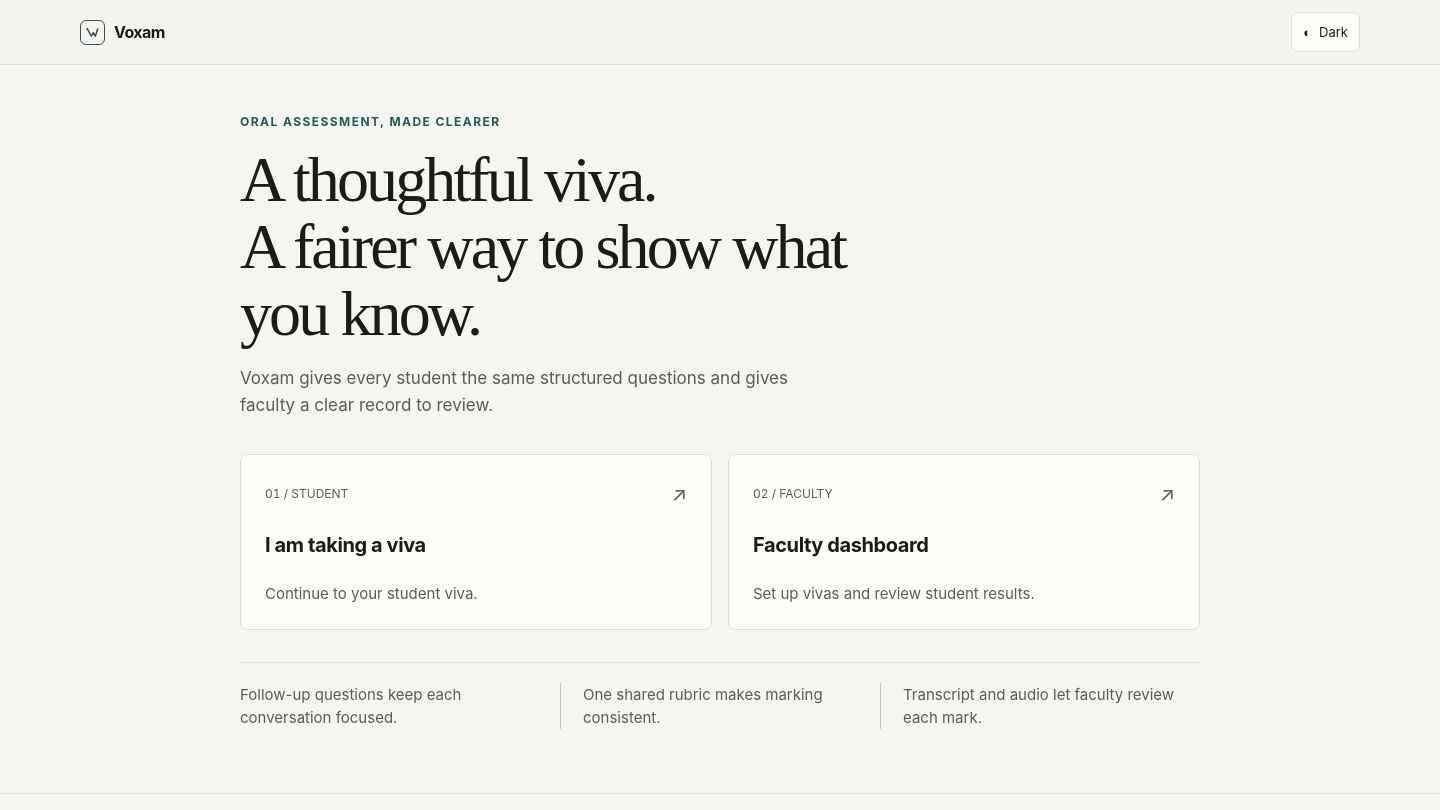
Test: application home and shared header › shows the student section label after following the student destination
The image size is (1440, 810).
Click the link "I am taking a viva" at (307, 494), box 240,454 -> 712,630
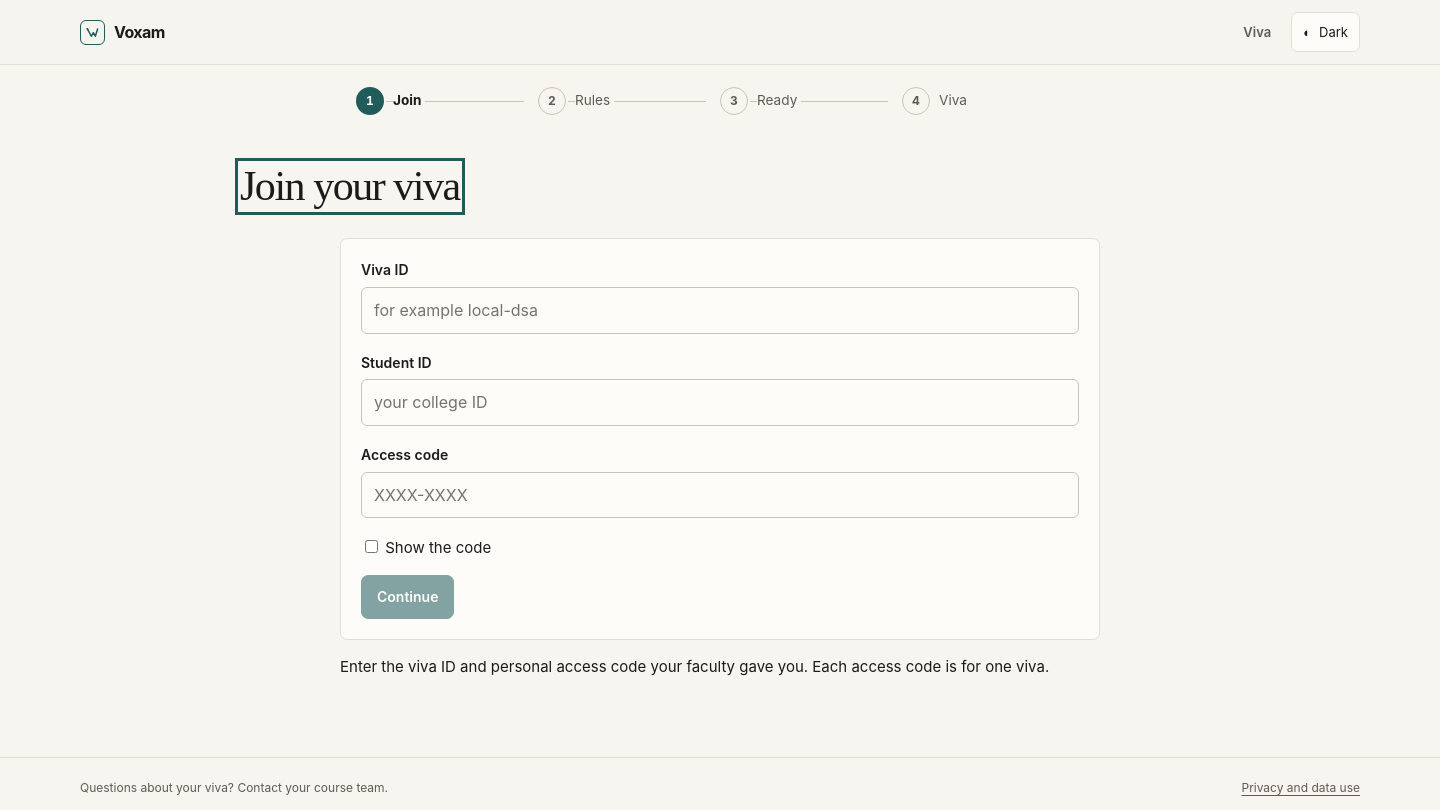
Now the text with class "site-section" reads "Viva", box 1243,24 -> 1271,40
Now the heading "Join your viva" is shown, box 240,163 -> 460,210
